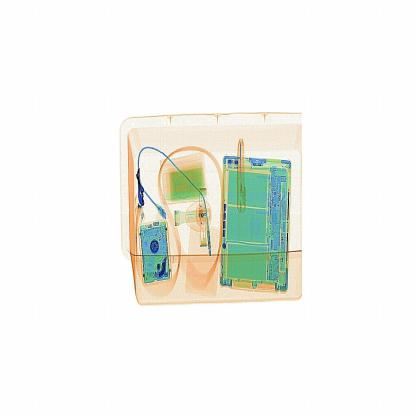pliers: (232, 137, 251, 214)
